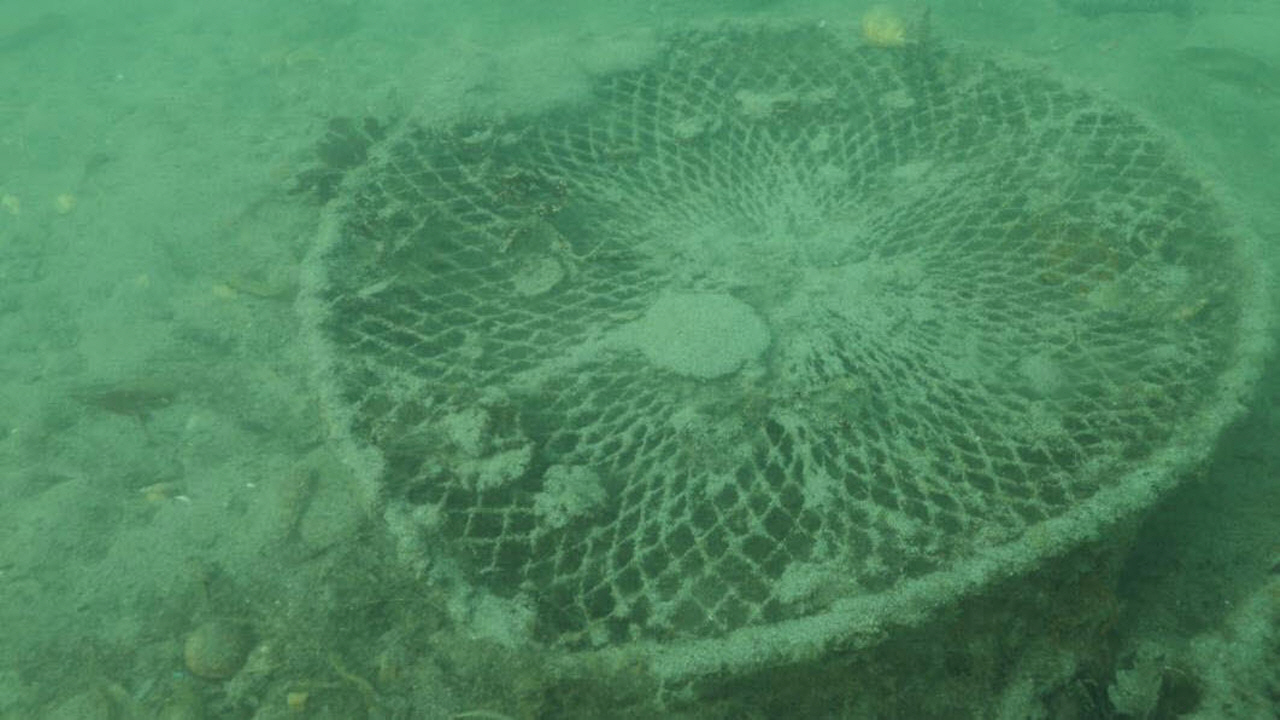circular fish trap: (304, 17, 1273, 680)
